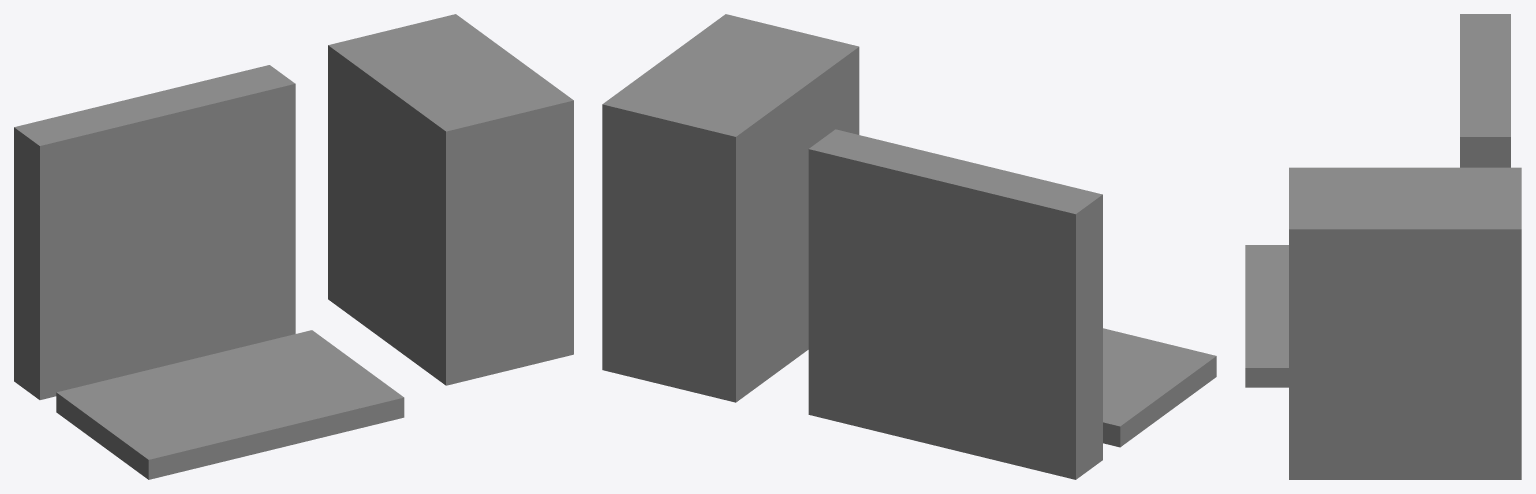
File: computer.fbx
3 renders of one model, left to right at view 1: azimuth 30°, elevation 25°; view 2: azimuth 150°, elevation 25°; view 3: azimuth 270°, elevation 25°, orthographic. The views are drawn at different scales.
Visible parts, largest first — view 1: computer; view 2: computer; view 3: computer.
Boxes of the visible parts, x1,y1,x2,y2 form: computer: [14, 14, 573, 479]; computer: [602, 14, 1216, 479]; computer: [1245, 14, 1521, 479].
Size of the model in its own units: 70 by 38 by 38.
